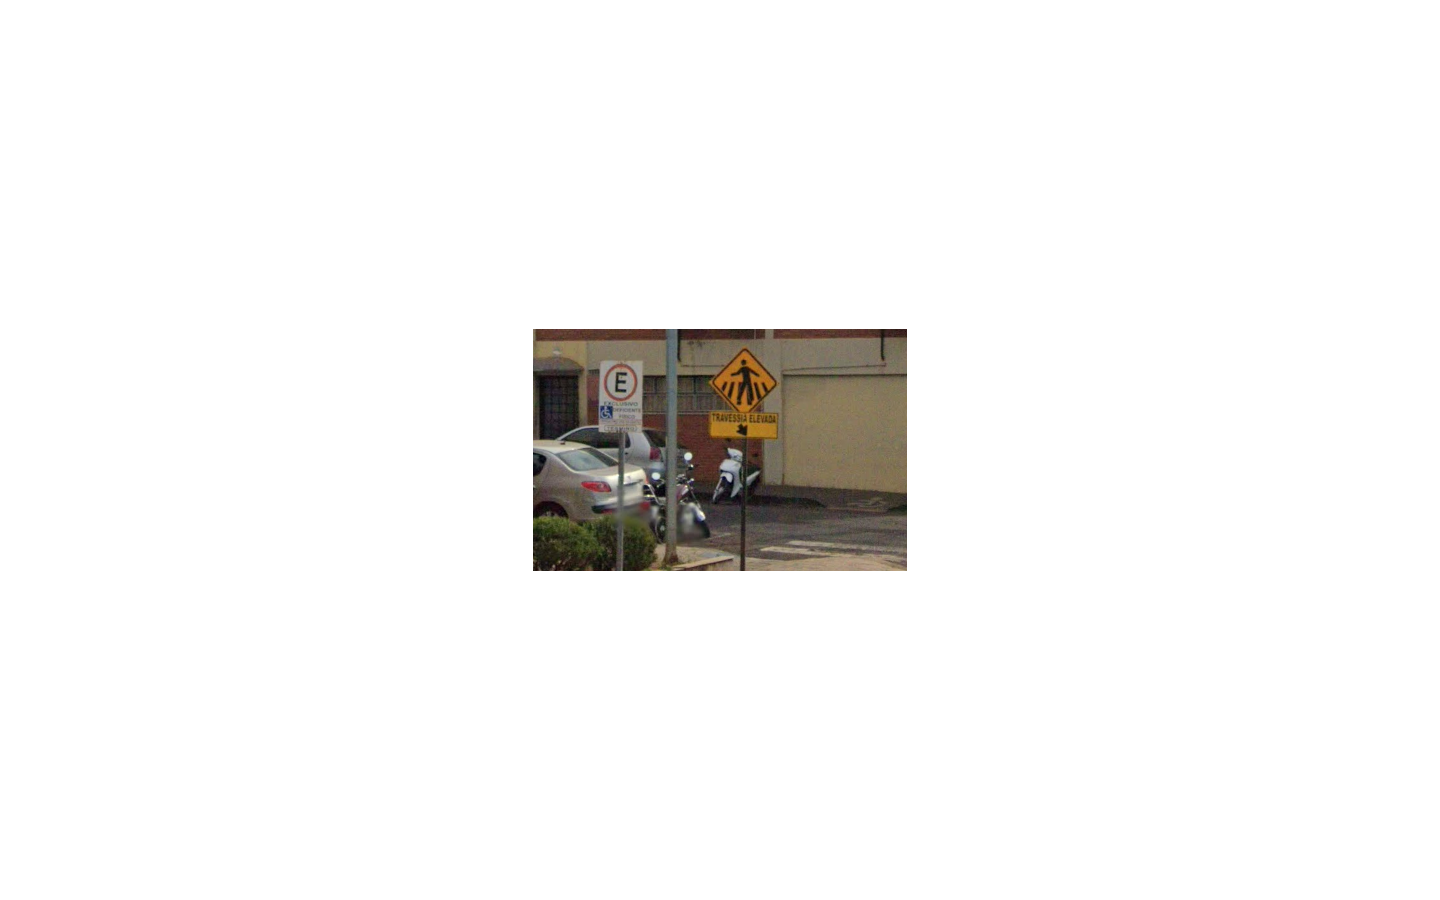telev: (707, 347, 778, 439)
